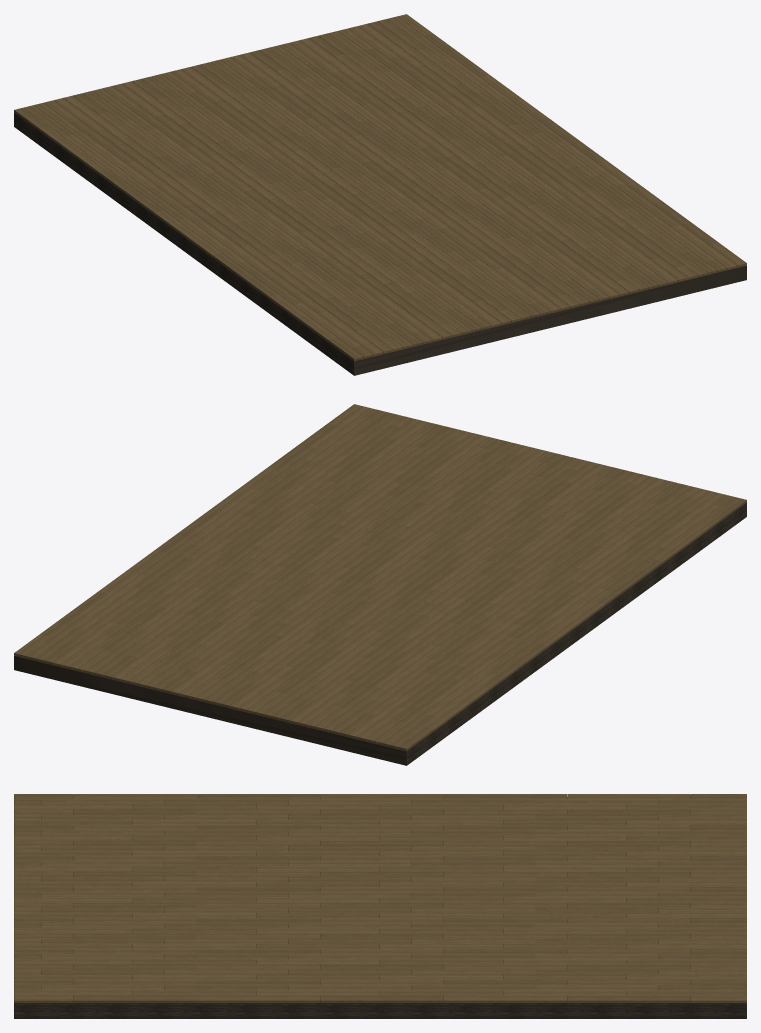
3 views of the same model, one above another, from view 1: azimuth 30°, elevation 25°; view 2: azimuth 150°, elevation 25°; view 3: azimuth 270°, elevation 25° (orthographic). The views are drawn at different scales.
Parts seen in each view (by area): view 1: Mesh_warm, Mesh_dark; view 2: Mesh_warm, Mesh_dark; view 3: Mesh_warm, Mesh_dark.
Part boxes in pixels (x1,y1,x2,y2): Mesh_warm: (14, 14, 746, 361); Mesh_dark: (14, 112, 746, 375); Mesh_warm: (14, 404, 746, 751); Mesh_dark: (14, 502, 746, 765); Mesh_warm: (14, 794, 746, 1003); Mesh_dark: (14, 797, 746, 1018).
Size of the model in its own units: 7.2 by 0.3 by 10.8.
Materials: 2 (2 with a texture image).
